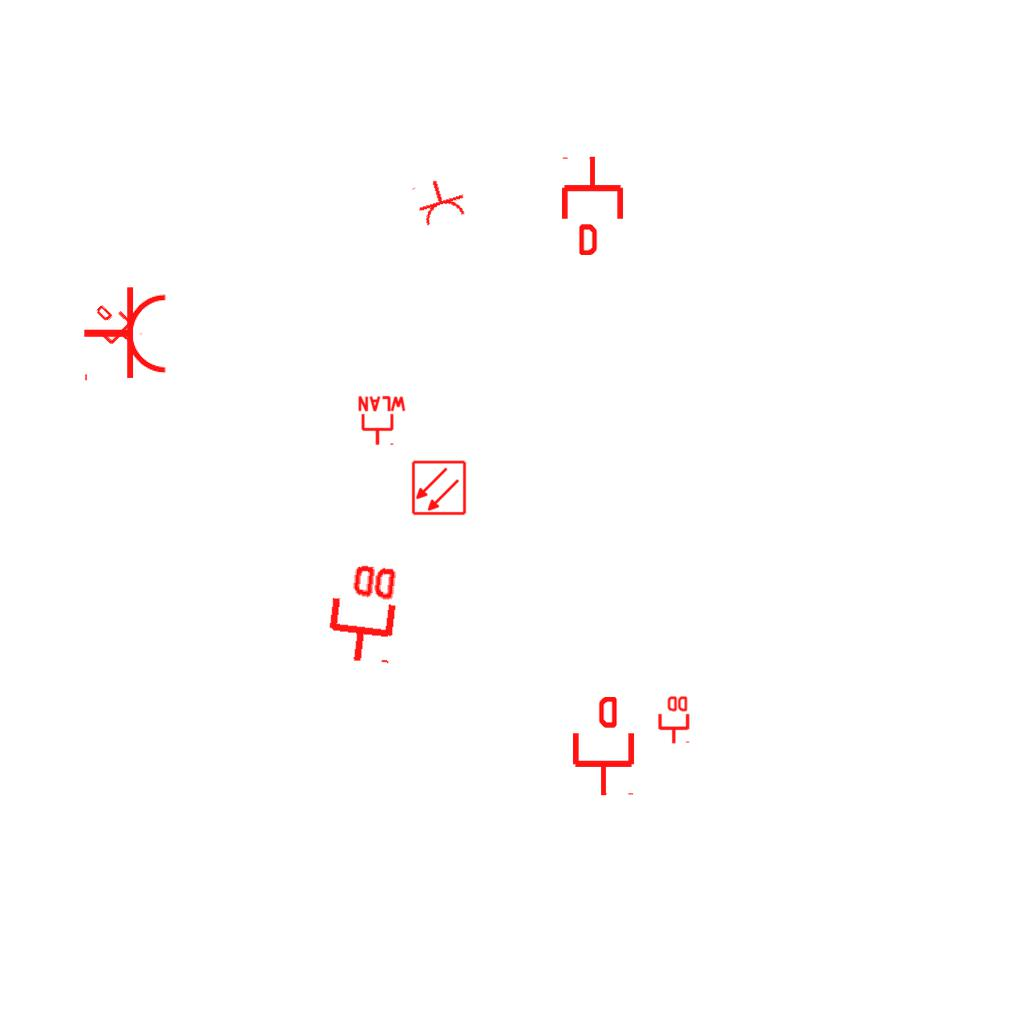Datenanschluss_einfach: (558, 155, 627, 255), (569, 697, 638, 797), (85, 297, 145, 357)
Datenanschluss_zweifach: (320, 557, 403, 668), (656, 694, 690, 745)
RMO_Rauchmelder_optischer: (411, 460, 467, 516)
Schukosteckdose_einfach: (82, 285, 169, 385), (409, 173, 470, 229)
WLAN: (356, 395, 408, 447)
